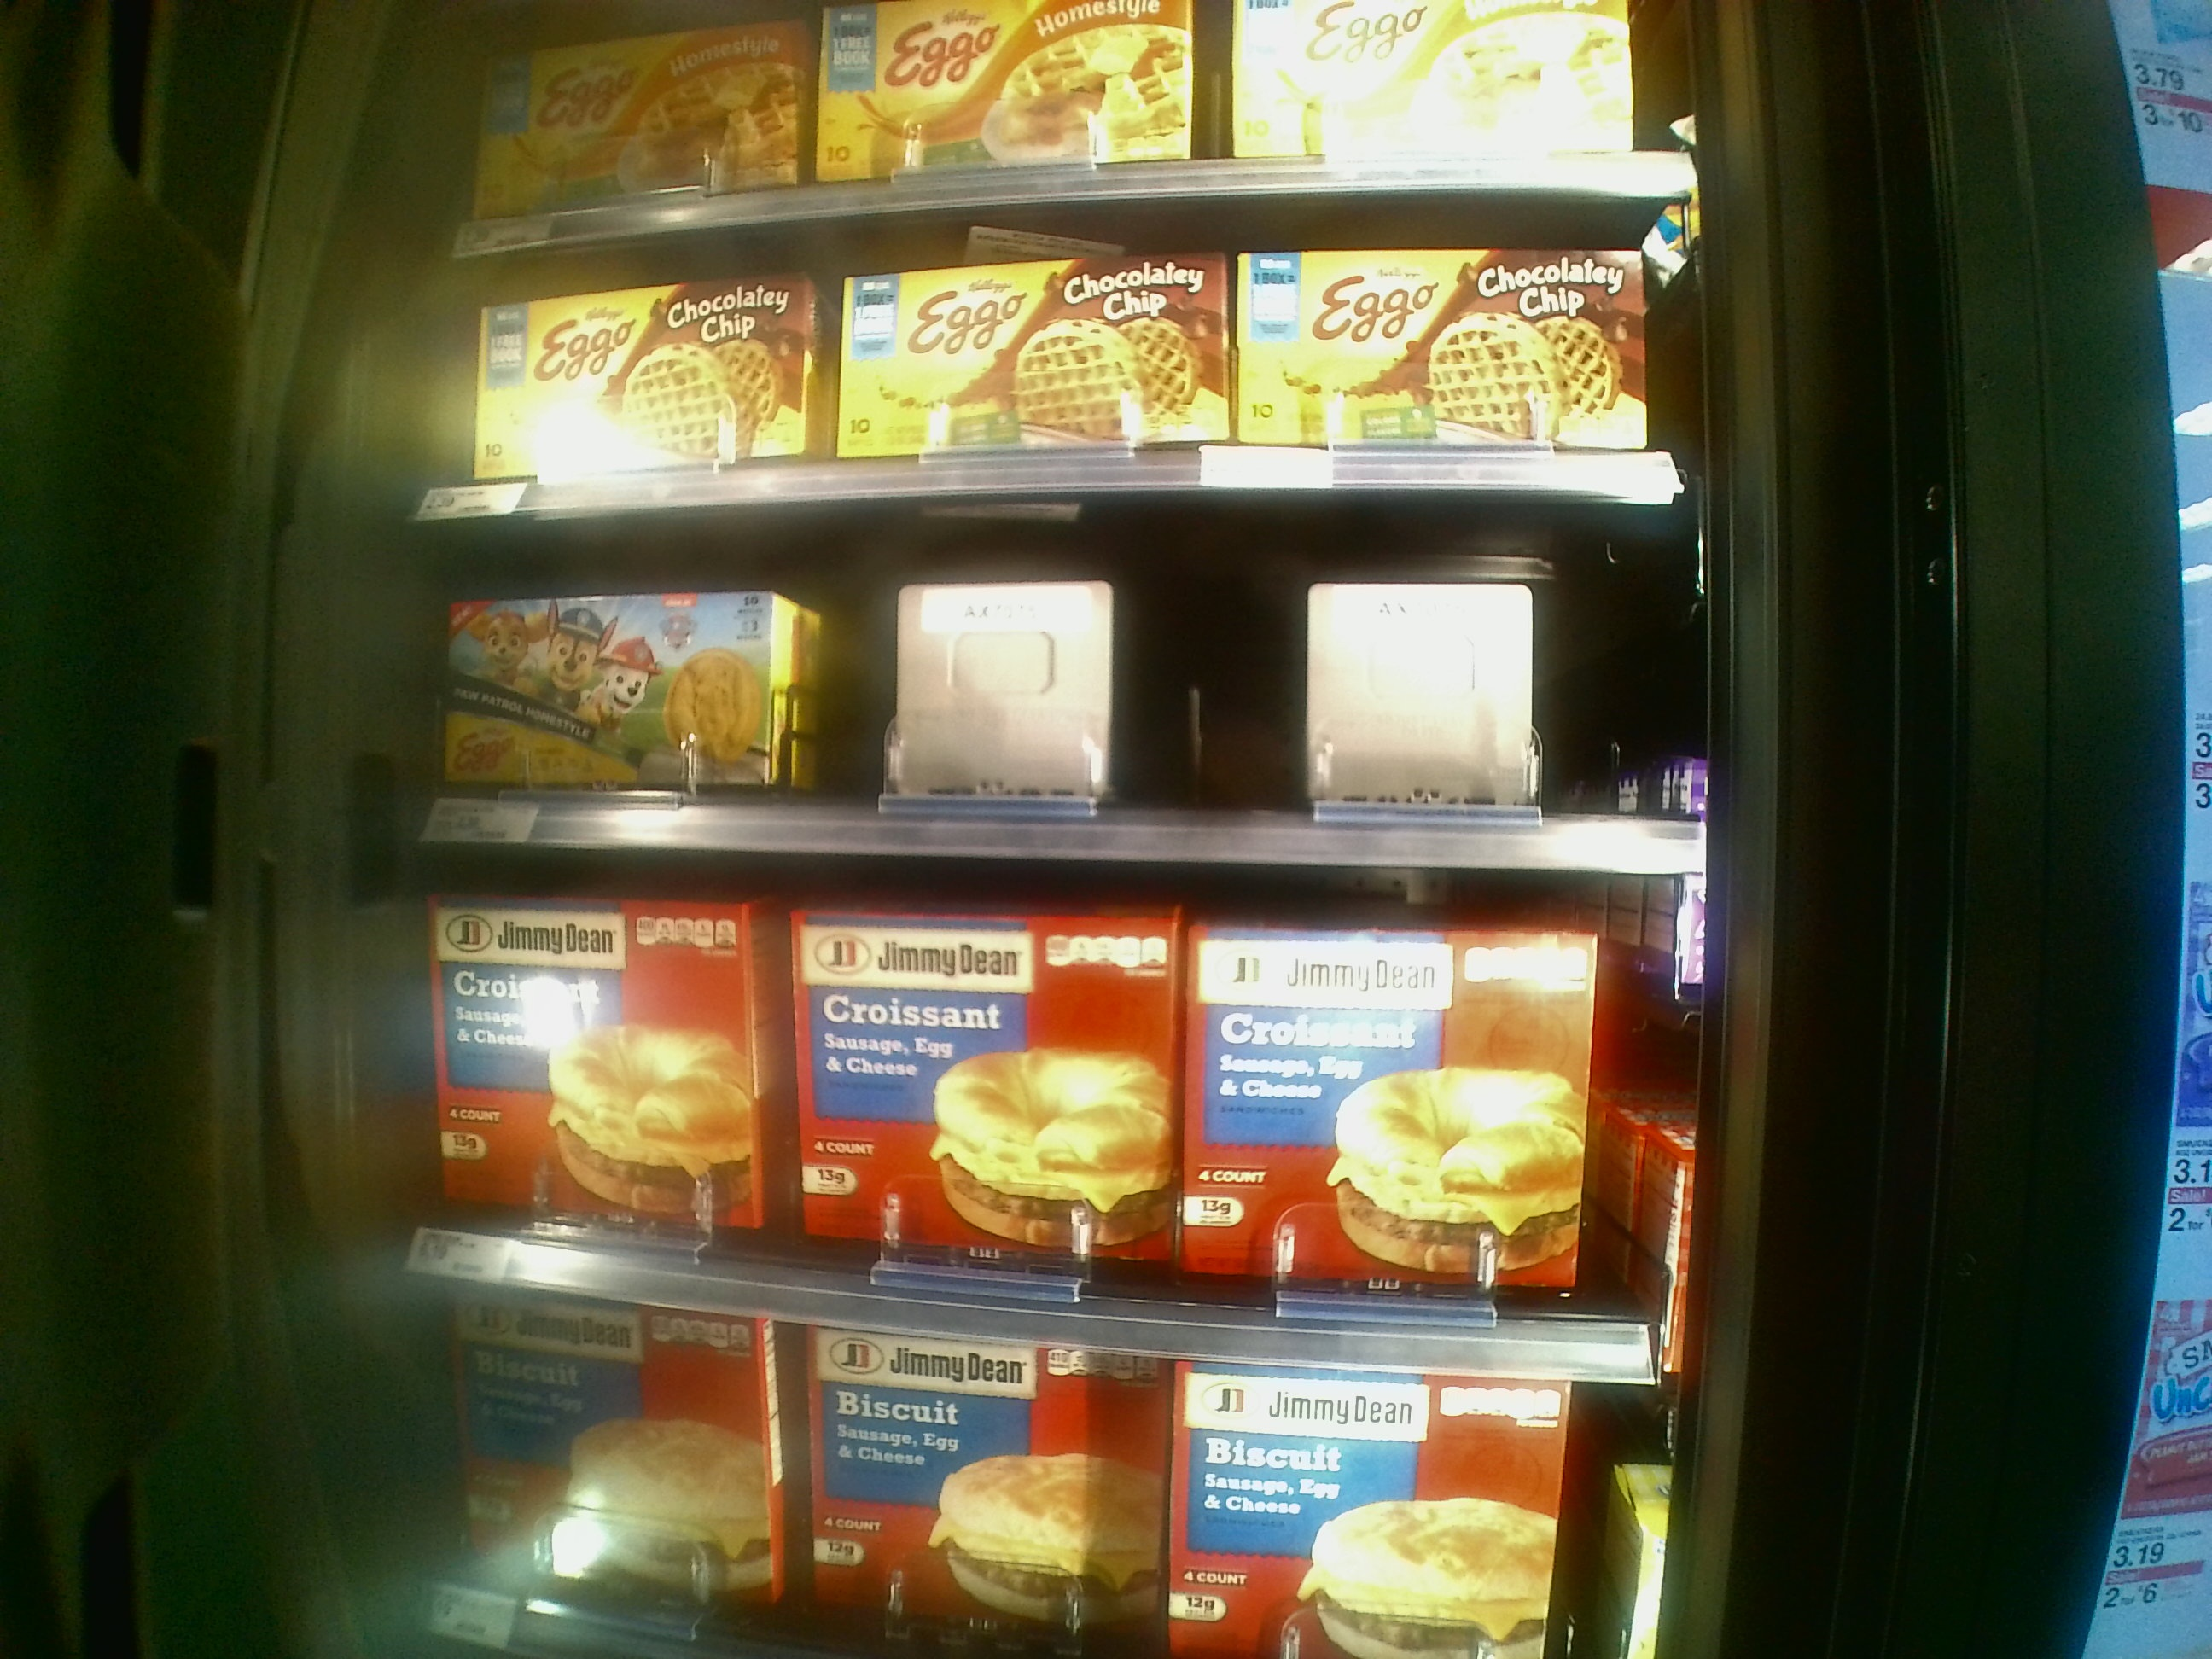frozen-food-shelf: (409, 824, 1714, 1389)
